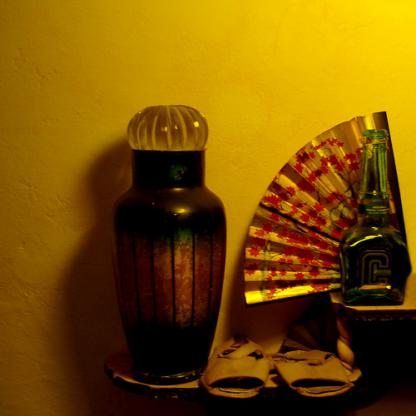bottle: (108, 102, 229, 386), (336, 128, 410, 308)
